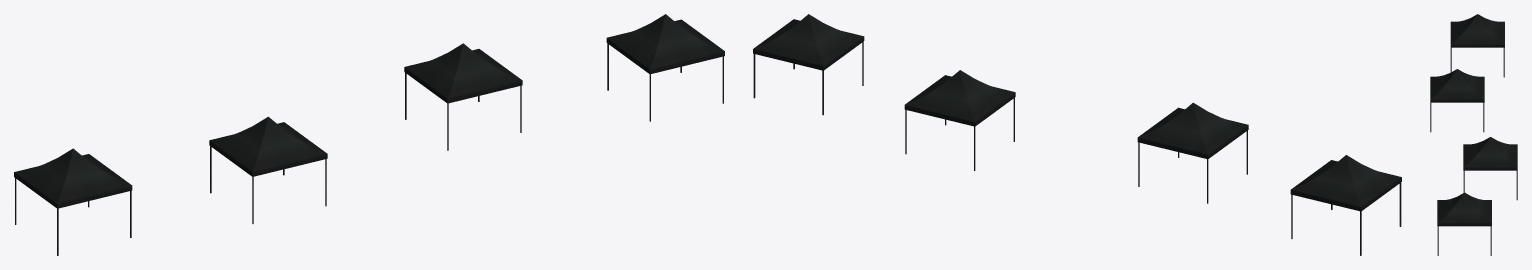
The model's file is Tents.obj.
The picture shows the model from 3 angles, left to right: view 1: azimuth 30°, elevation 25°; view 2: azimuth 150°, elevation 25°; view 3: azimuth 270°, elevation 25°; orthographic projection. The views are drawn at different scales.
Visible parts, largest first — view 1: StallUmbrellas_Cylinder.003; view 2: StallUmbrellas_Cylinder.003; view 3: StallUmbrellas_Cylinder.003.
Part boxes in pixels (left/top/right/bottom): StallUmbrellas_Cylinder.003: left=14, top=14, right=724, bottom=255; StallUmbrellas_Cylinder.003: left=753, top=14, right=1401, bottom=255; StallUmbrellas_Cylinder.003: left=1430, top=14, right=1517, bottom=255.
Size of the model in its own units: 35.96 by 4.34 by 6.6.
